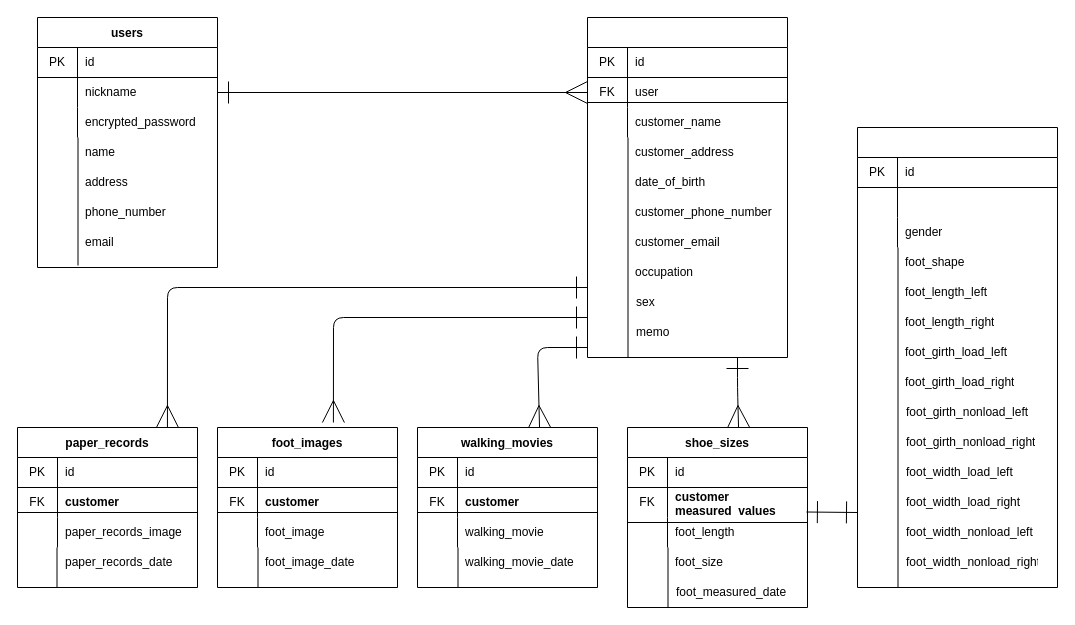
Image size: 1075x625. Some labels were removed from this diagram. Here are the shapes that lost their labels. From the top down, the box of each, then its label:
(586, 16, 788, 358): customers
(856, 126, 1058, 588): measured_values
